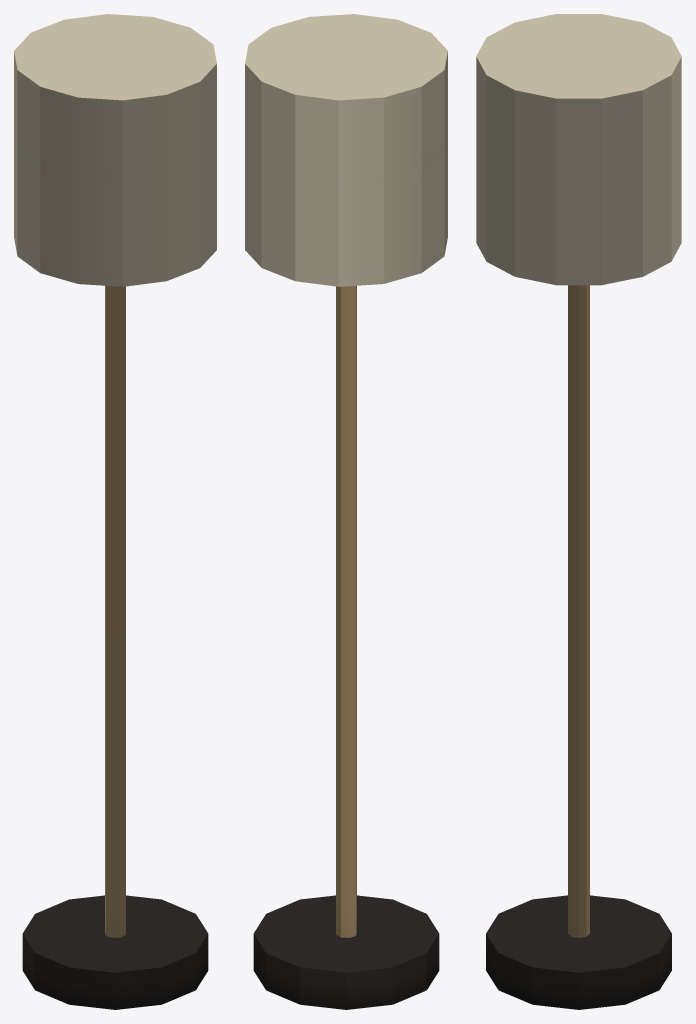
File: reading.lamp.glb
The picture shows the model from 3 angles, left to right: view 1: azimuth 30°, elevation 25°; view 2: azimuth 150°, elevation 25°; view 3: azimuth 270°, elevation 25°; orthographic projection.
Visible parts, largest first — view 1: asset:floor-lamp:reading.lamp; view 2: asset:floor-lamp:reading.lamp; view 3: asset:floor-lamp:reading.lamp.
Part boxes in pixels (left/top/right/bottom): asset:floor-lamp:reading.lamp: left=14, top=14, right=216, bottom=1009; asset:floor-lamp:reading.lamp: left=245, top=14, right=447, bottom=1009; asset:floor-lamp:reading.lamp: left=476, top=14, right=681, bottom=1009.
Size of the model in its own units: 0.3112 by 1.57 by 0.3192.
